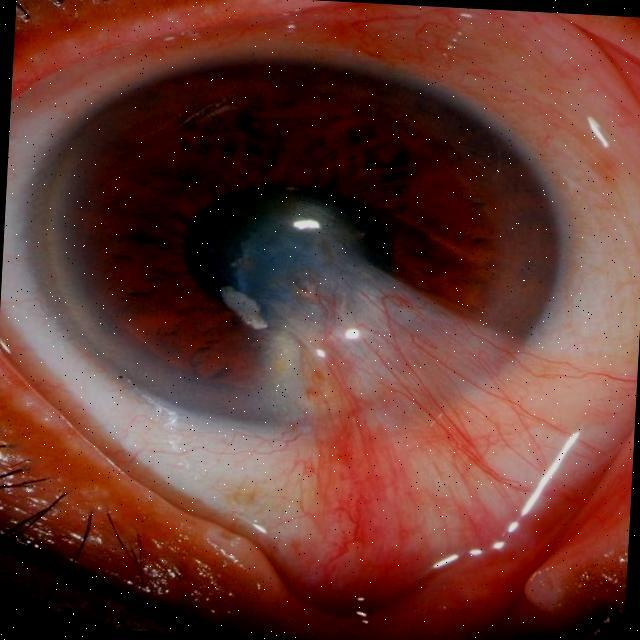Pterygium: (226, 261, 634, 612)
